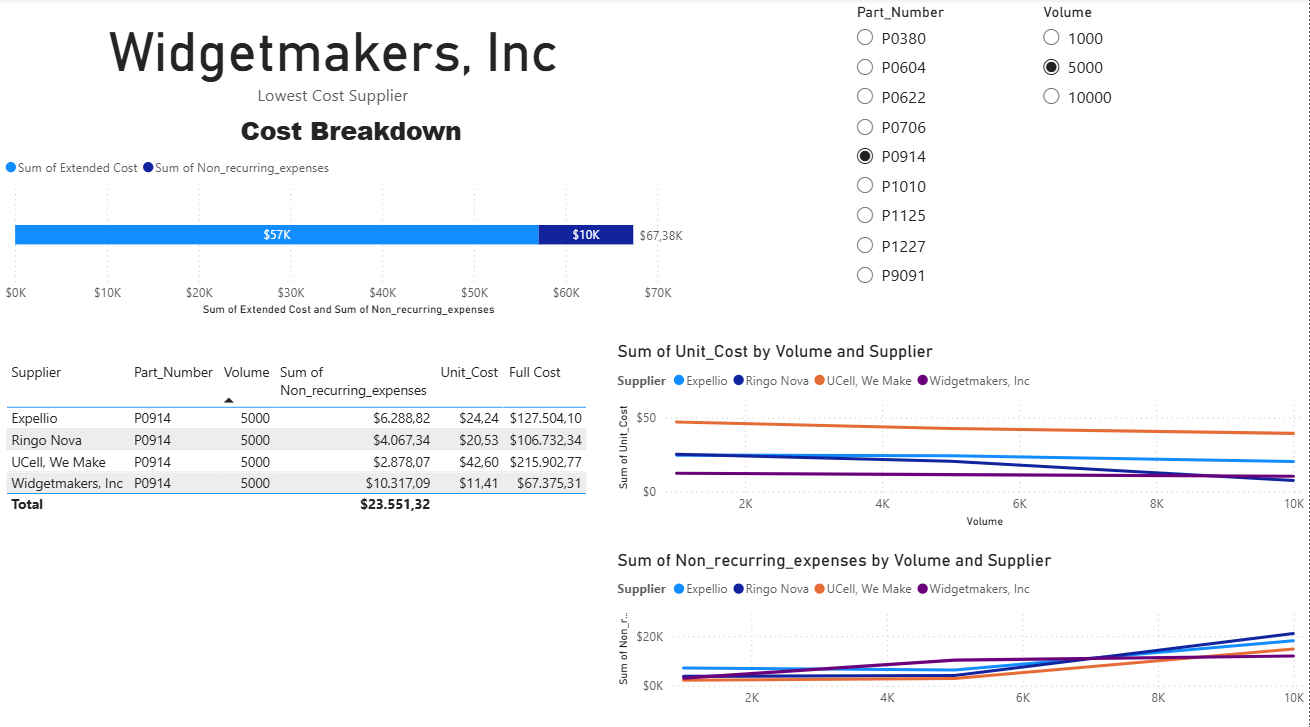

The page's visual inventory and layout, read from the dashboard file:
{"tool":"powerbi","page":{"name":"Supplier Selection","canvas":[1280,720],"ordinal":0},"visuals":[{"type":"tableEx","fields":{"Values":["Quotes.Supplier","Quotes.Part_Number","Quotes.Volume","Sum(Quotes.Non_recurring_expenses)","Quotes.Unit_Cost","Quotes.Full Cost"]},"box":[0,350,599.3,340.4],"z":0},{"type":"slicer","fields":{"Values":["Quotes.Part_Number"]},"box":[824.9,0,182,308.6],"z":1000},{"type":"lineChart","fields":{"Category":["Quotes.Volume"],"Series":["Quotes.Supplier"],"Y":["Sum(Quotes.Unit_Cost)"]},"box":[598.8,335.6,681.2,187.7],"z":2000},{"type":"lineChart","fields":{"Category":["Quotes.Volume"],"Series":["Quotes.Supplier"],"Y":["Sum(Quotes.Non_recurring_expenses)"]},"box":[598.8,539,681.2,163.6],"z":3000},{"type":"slicer","fields":{"Values":["Quotes.Volume"]},"box":[1007.4,0,224.2,207.4],"z":4000},{"type":"card","fields":{"Values":["Min(Quotes.Supplier)"]},"box":[44.3,0,563.3,112.7],"z":5000},{"type":"barChart","title":"Cost Breakdown","fields":{"Y":["Sum(Quotes.Extended Cost)","Sum(Quotes.Non_recurring_expenses)"]},"box":[0,112.7,686.7,203.7],"z":6000}]}

Visuals, with their boxes in screenshot pixels (x1, y1, x2, y2), scaled from the page's 1280x720 canvas onto the 1310x727 screenshot:
tableEx - Quotes.Supplier x Quotes.Part_Number: (x1=0, y1=353, x2=613, y2=697)
slicer - Quotes.Part_Number: (x1=844, y1=0, x2=1030, y2=312)
lineChart - Quotes.Volume x Quotes.Supplier: (x1=613, y1=339, x2=1309, y2=528)
lineChart - Quotes.Volume x Quotes.Supplier: (x1=613, y1=544, x2=1309, y2=709)
slicer - Quotes.Volume: (x1=1031, y1=0, x2=1260, y2=209)
card - Min(Quotes.Supplier): (x1=45, y1=0, x2=622, y2=114)
"Cost Breakdown" barChart: (x1=0, y1=114, x2=703, y2=319)
